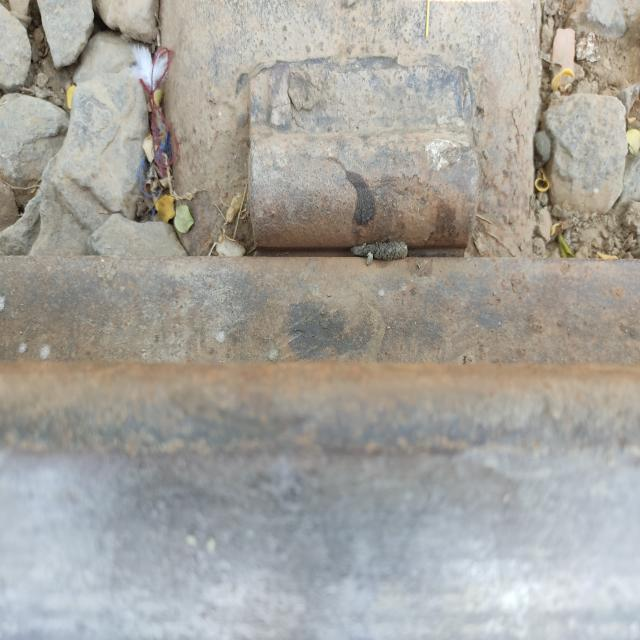fault: (238, 40, 481, 257)
